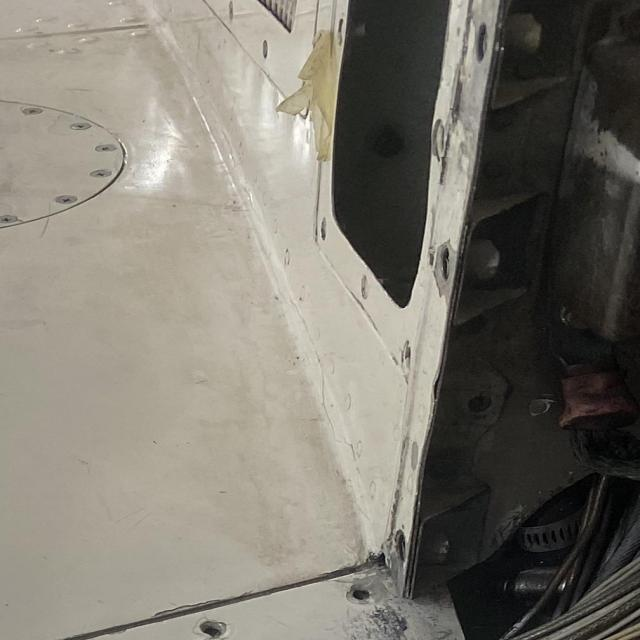Missing-head: (195, 616, 233, 640), (346, 580, 379, 605)
